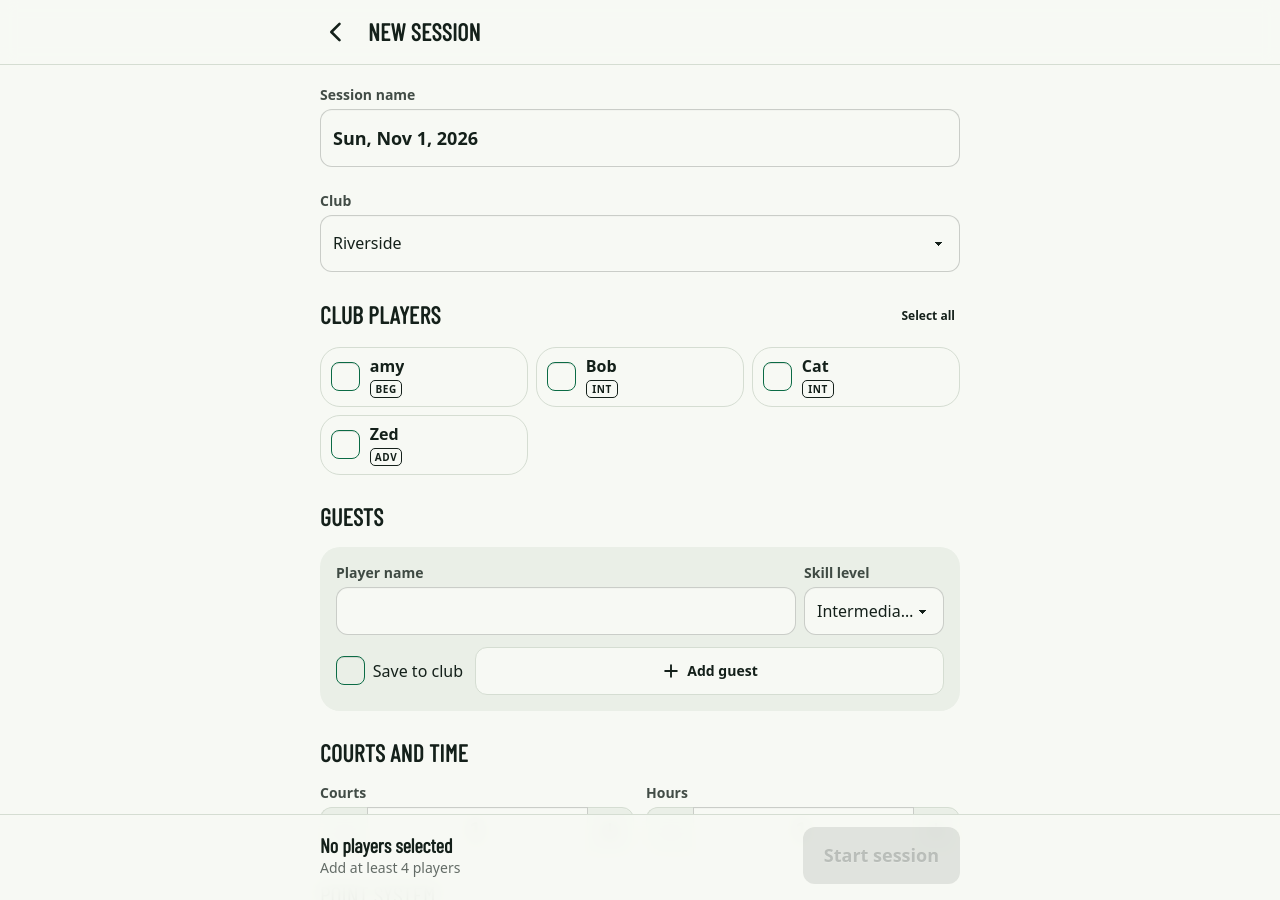
Scenario: NewSessionScreen › flags a Guest whose name matches a Club player as 'Name taken' and blocks Start
Select "No club (guests only)" in the dropdown labelled "Club": (640, 243) left=320, top=215, right=960, bottom=272
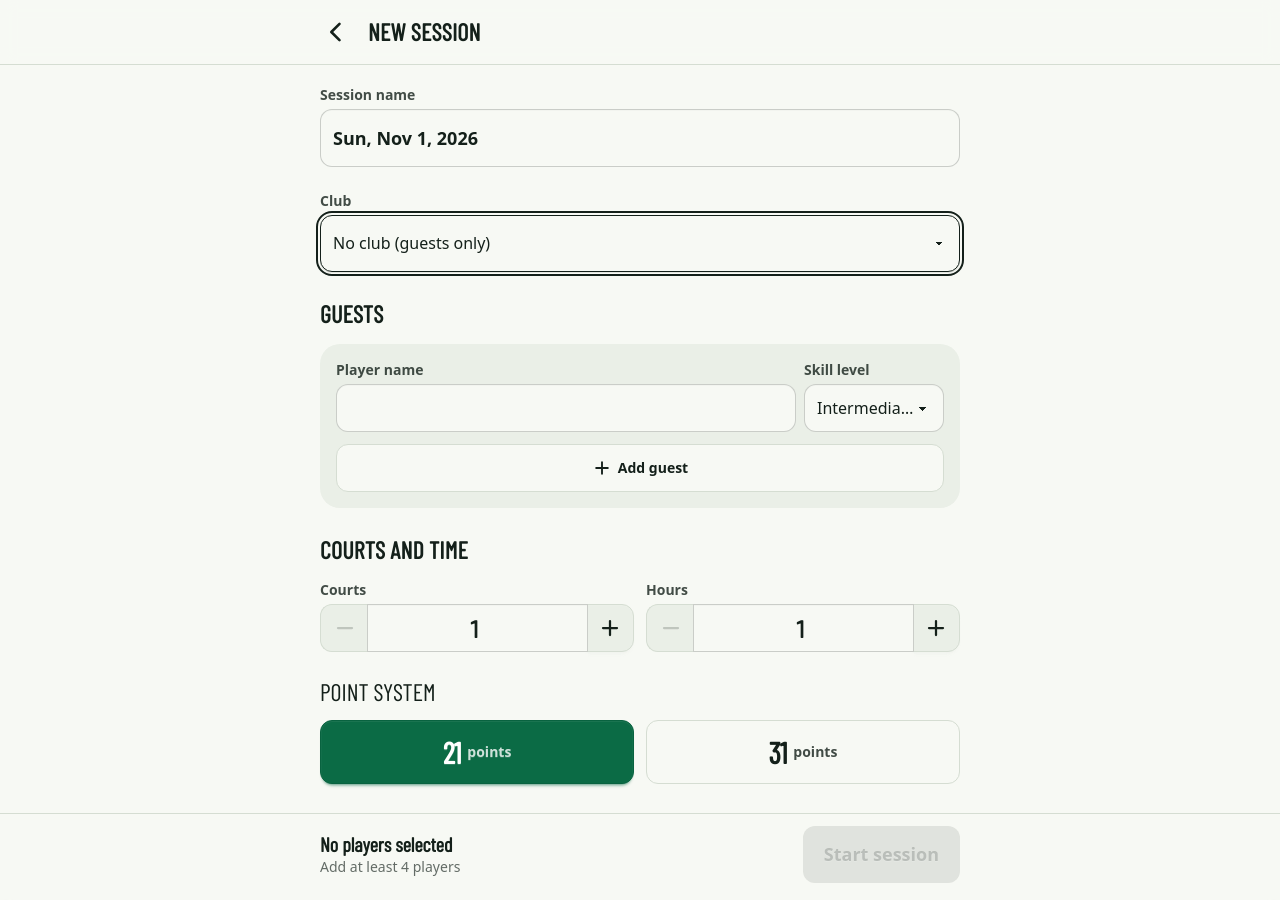
In the field labelled "Player name": (566, 408) left=336, top=384, right=796, bottom=432, type "Bob"
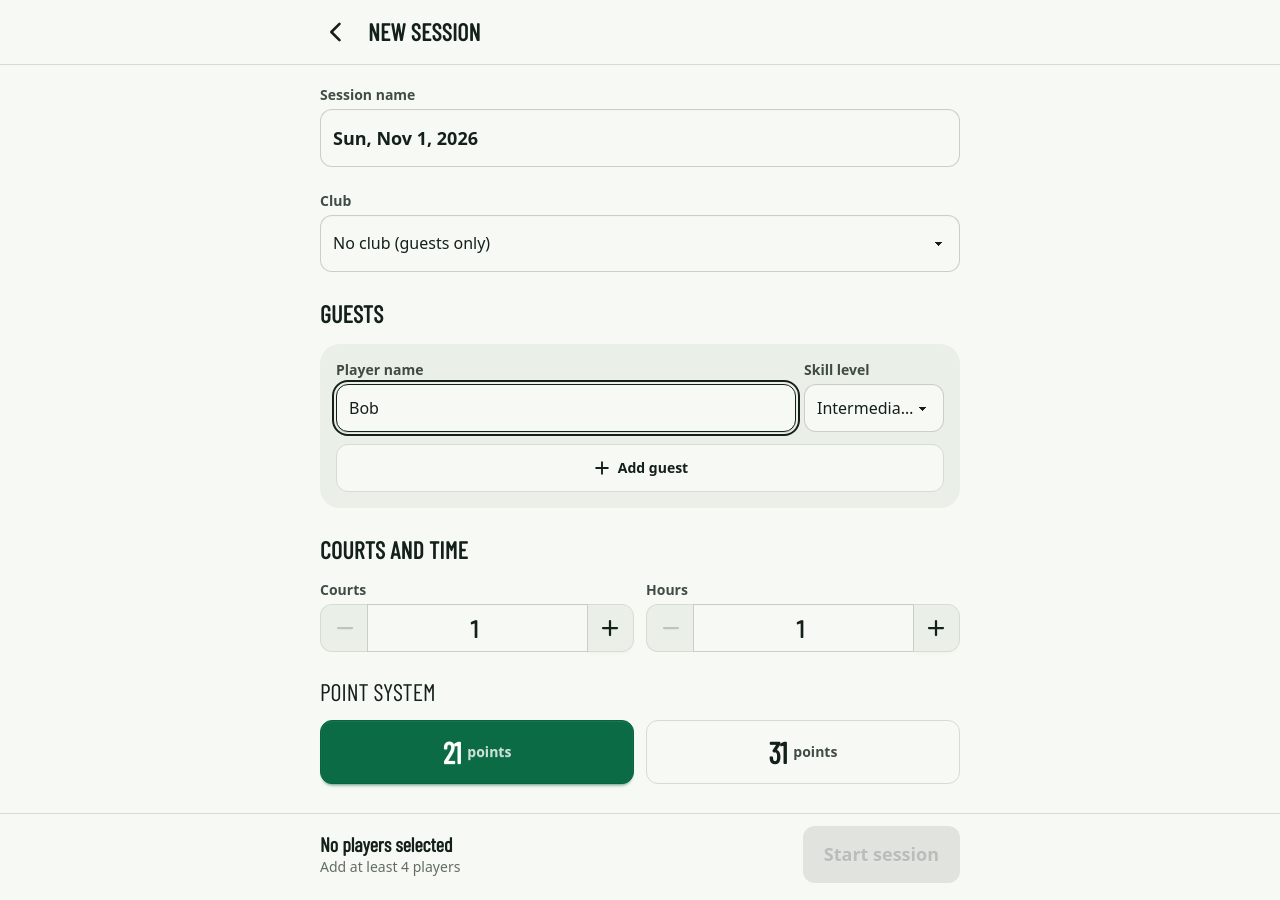
Click the button "Add guest": (640, 468) left=336, top=444, right=944, bottom=492
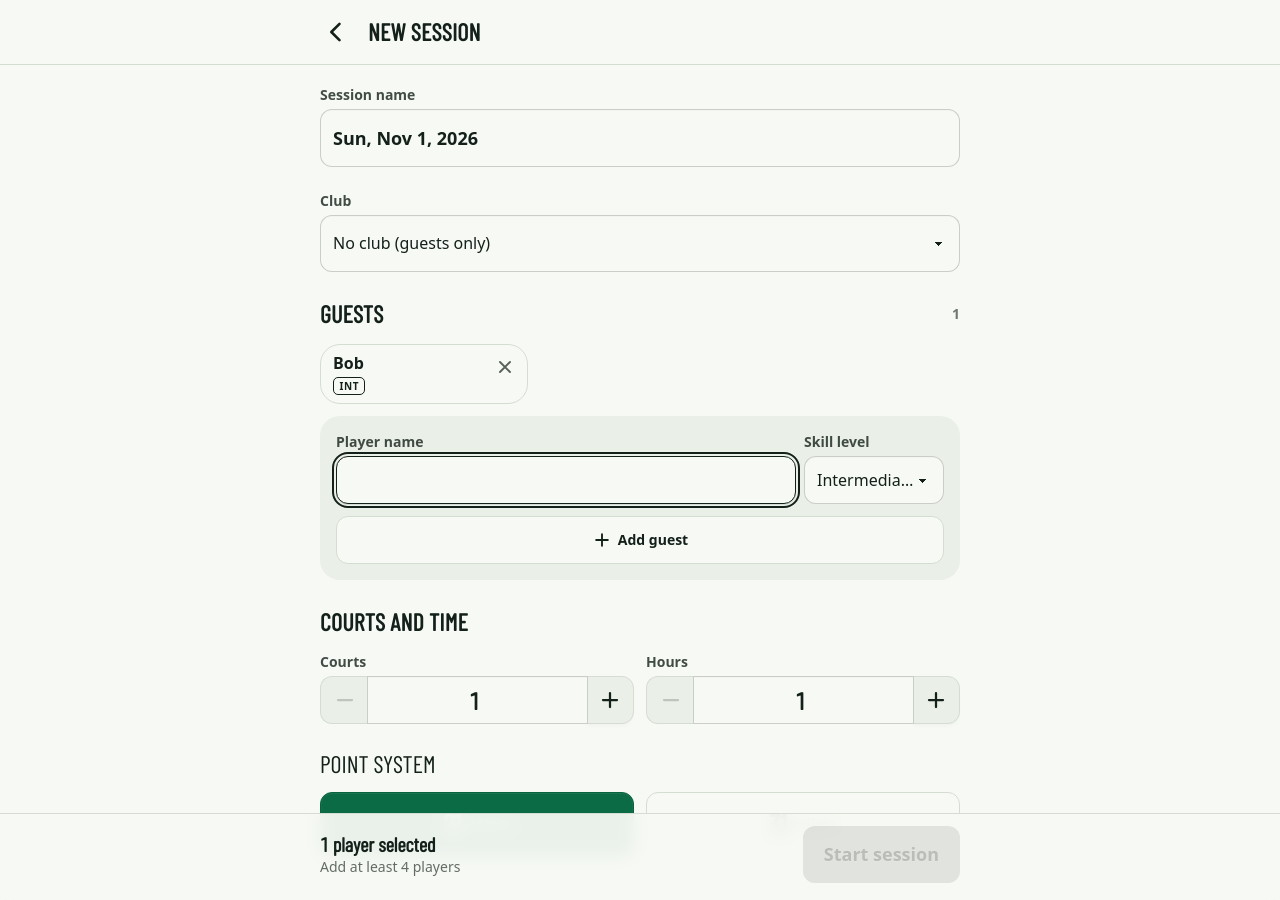
Expected: the text "Name taken" is not shown
Select "Riverside" in the dropdown labelled "Club": (640, 243) left=320, top=215, right=960, bottom=272
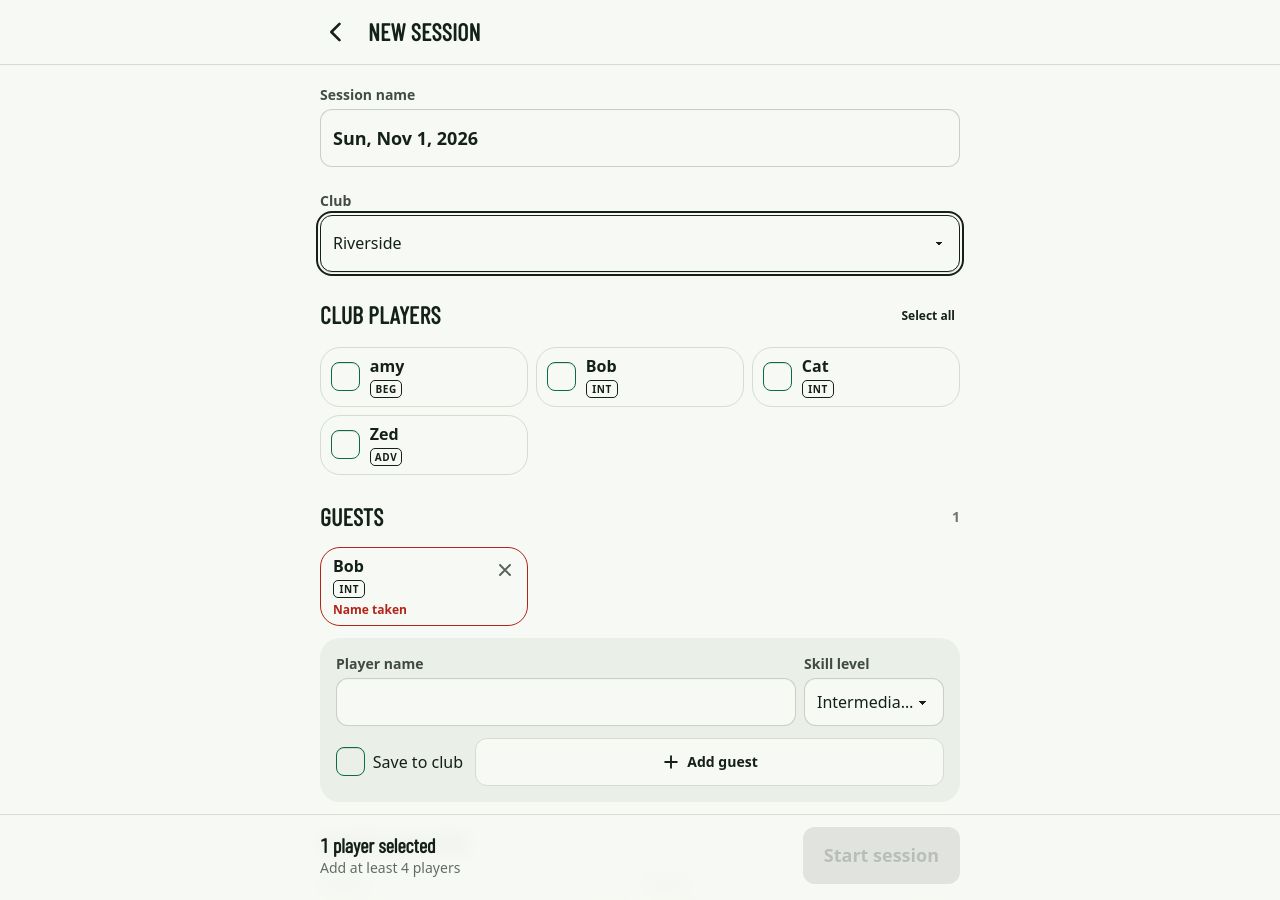
Result: the text "Name taken" is shown at left=333, top=601, right=407, bottom=618
Click the button "Select all": (928, 315) left=888, top=296, right=968, bottom=335
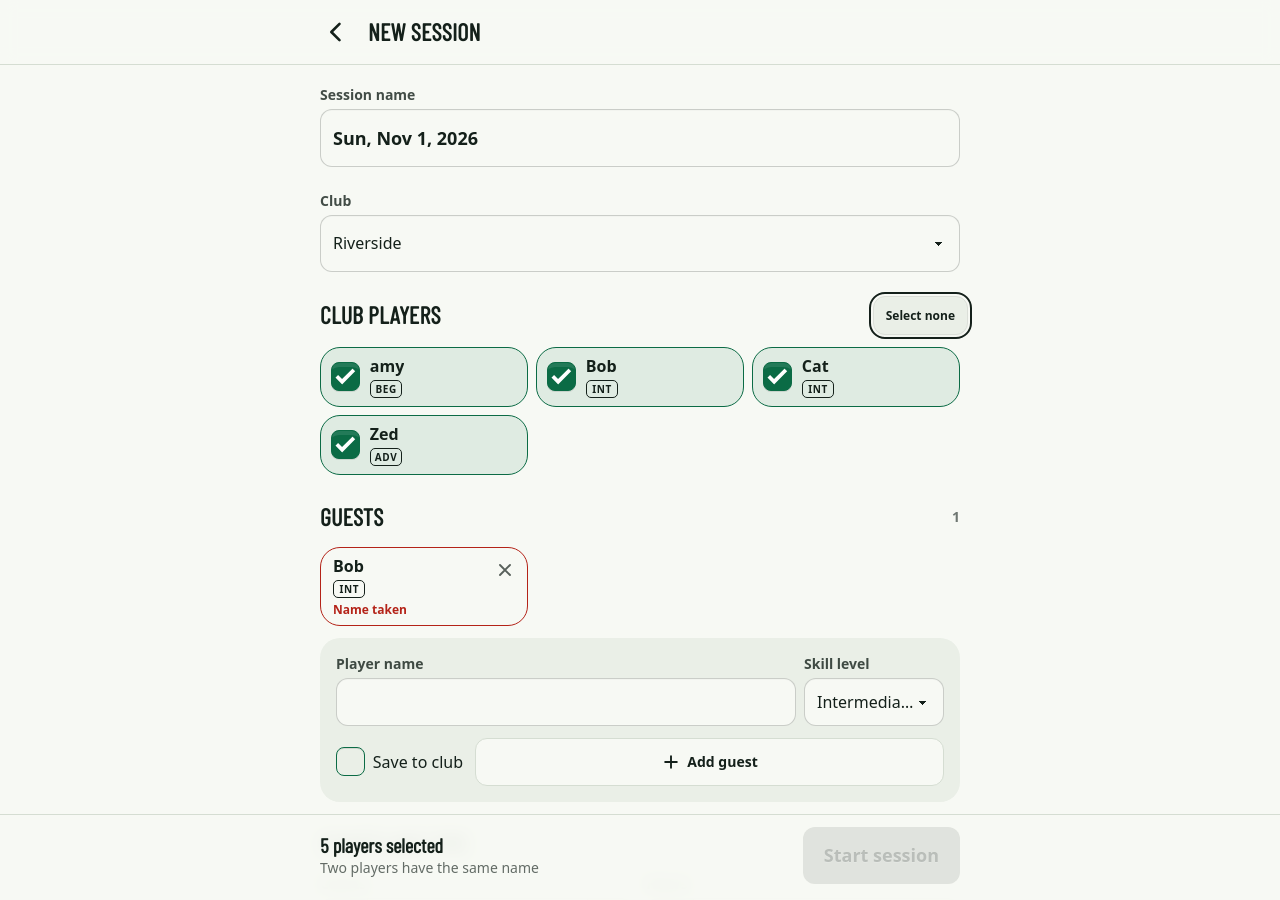
Expected: the button "Start session" is disabled, left=803, top=826, right=960, bottom=884
Result: the text "Two players have the same name" is shown at left=320, top=858, right=539, bottom=877
